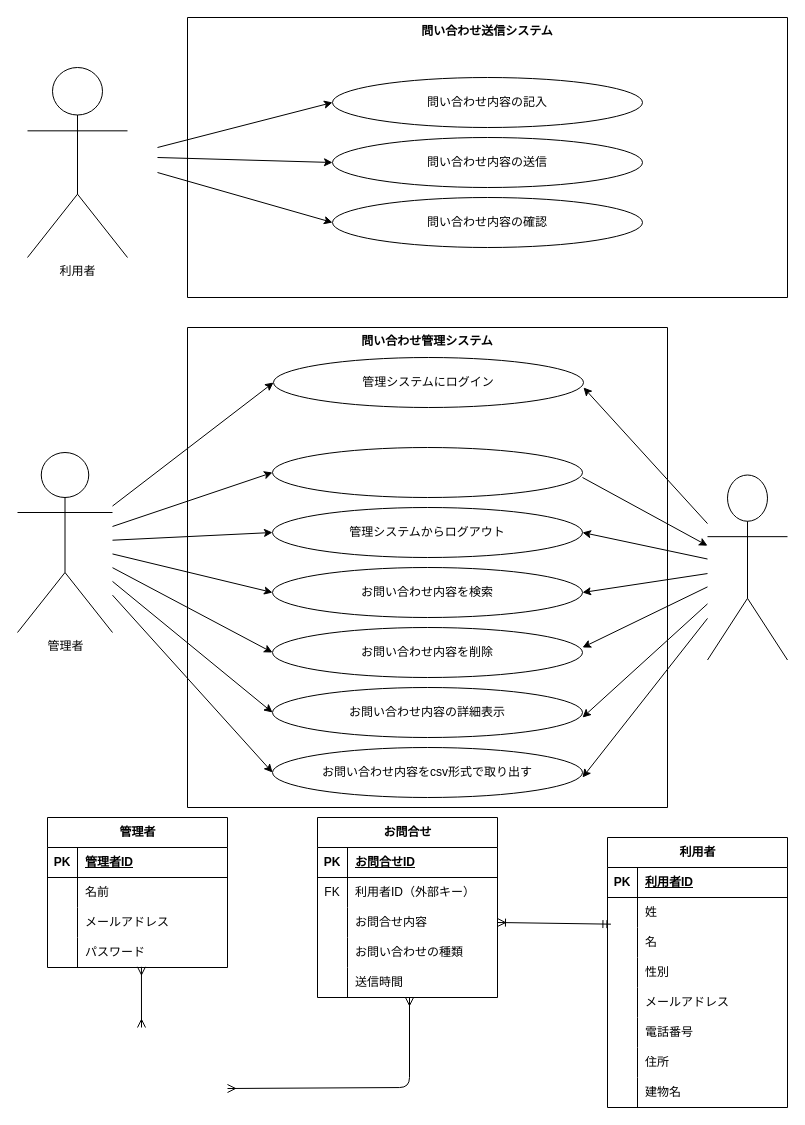
The diagram is 805 pixels wide and 1125 high, and some of its shapes have lost their labels. The centre of each missing label's shape, as x and y in pixels:
新規ユーザーの作成・登録: pixel 427 472
新規管理者: pixel 747 567
